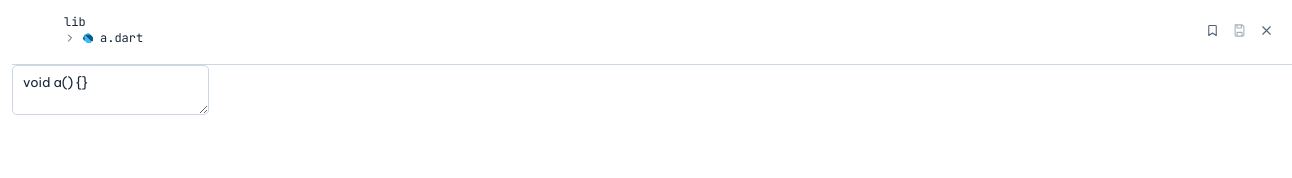
it: EditorTab › Nạp lại giữ nội dung gõ thêm sau khi bấm nút trong lúc đọc đĩa
Type "x" into the text box named "editor". click: {"x": 110, "y": 90}
box: [12,65,209,115]
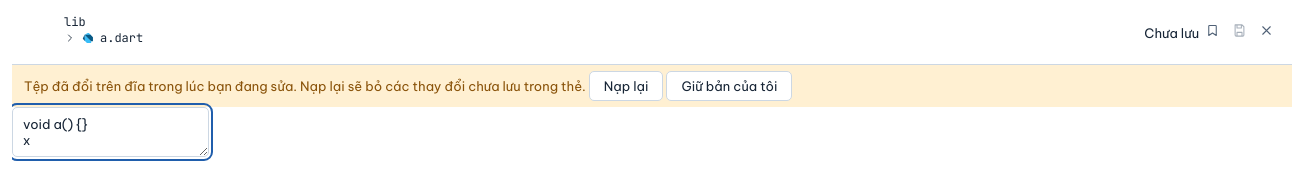
Click the button "Nạp lại". click: {"x": 626, "y": 86}
box: [589,71,664,101]
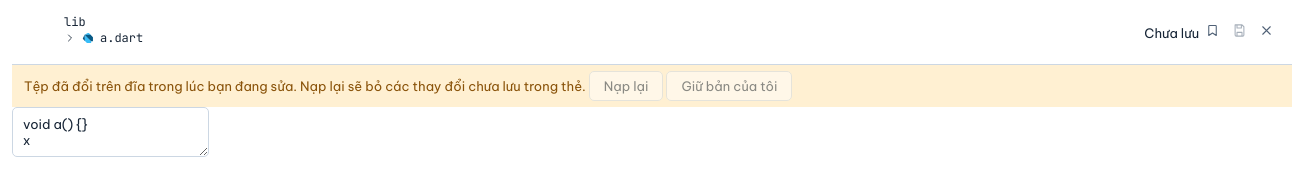
expect the button "Nạp lại" is disabled: met, box [589,71,664,101]
Type "y" into the text box named "editor". click: {"x": 110, "y": 132}
box: [12,107,209,157]
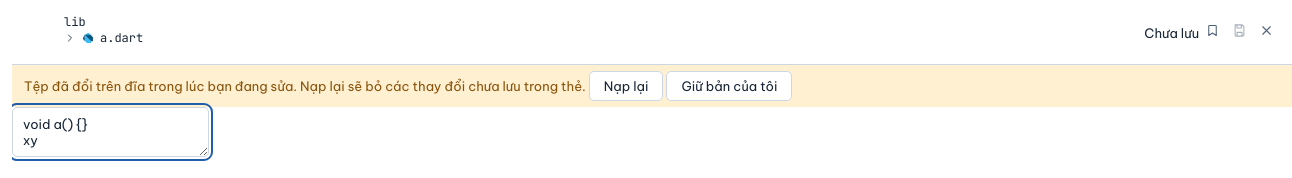
expect the button "Nạp lại" is enabled: met, box [589,71,664,101]
